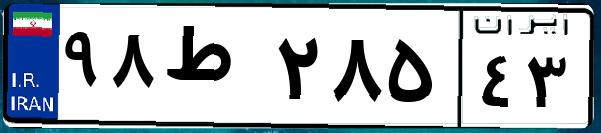2: (270, 28, 330, 110)
3: (525, 38, 570, 115)
4: (475, 38, 525, 113)
5: (385, 28, 445, 110)
8: (330, 28, 385, 110), (110, 28, 158, 98)
9: (57, 26, 110, 100)
ط: (158, 20, 270, 120)
